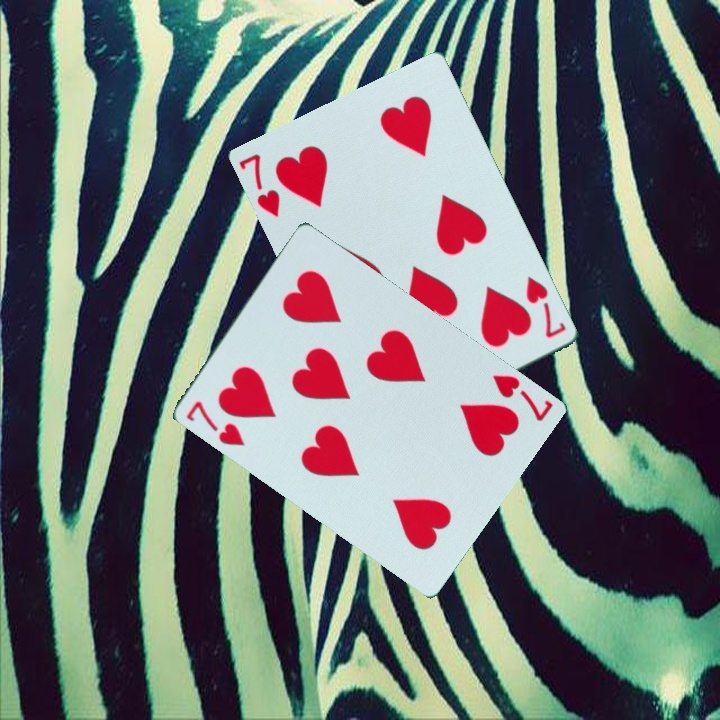7h: (488, 371, 555, 425), (181, 397, 247, 450), (236, 150, 284, 220), (523, 273, 570, 342)
